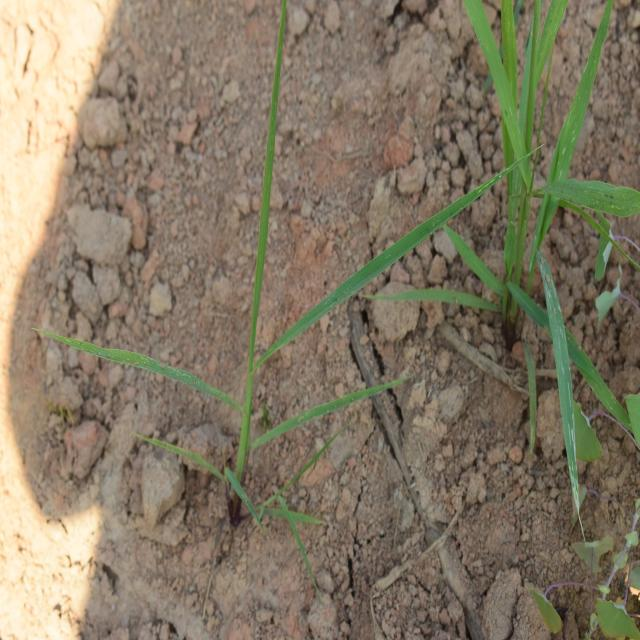green_foxtail: (82, 87, 392, 500), (457, 10, 612, 438)
